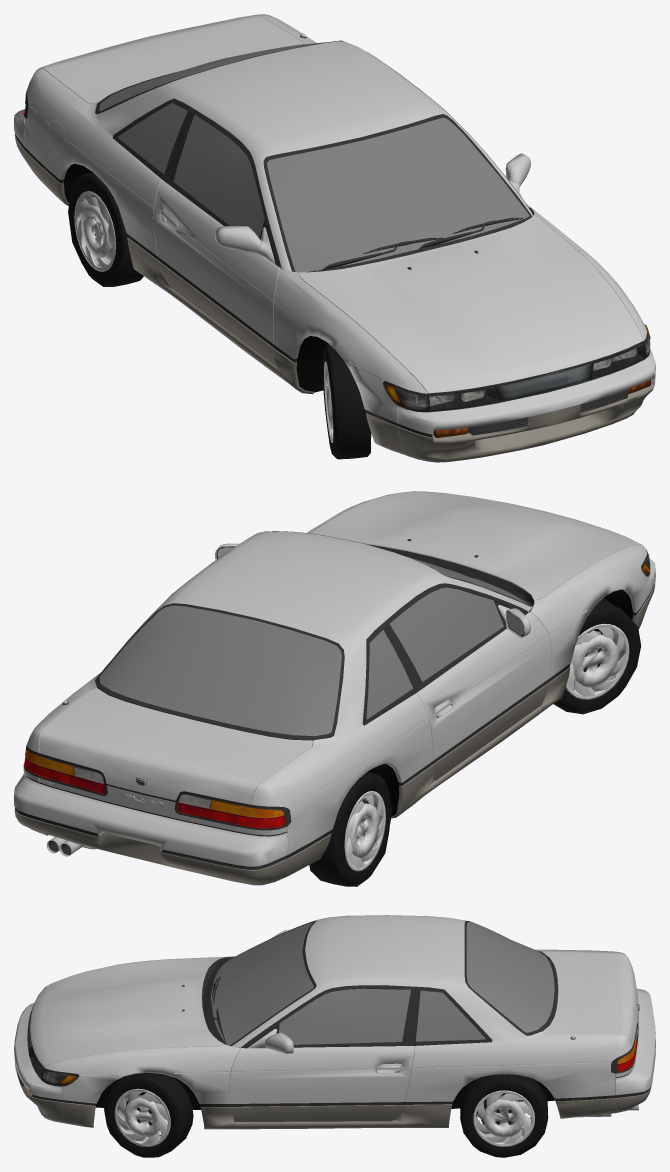
The picture shows the model from 3 angles, top to bottom: view 1: azimuth 30°, elevation 25°; view 2: azimuth 150°, elevation 25°; view 3: azimuth 270°, elevation 25°; orthographic projection. The views are drawn at different scales.
Visible parts, largest first — view 1: body_solid, wheel_RR, wheel_RF, body_Grill, body_HeadAlpha1, body_HeadAlpha3, body_HeadIns2; view 2: body_solid, wheel_RF, wheel_RR, body_TailAlpha; view 3: body_solid, wheel_LR, wheel_LF, body_HeadAlpha3.
Boxes of the visible parts, x1,y1,x2,y2 form: body_solid: (14,14,655,462); wheel_RR: (68,172,143,286); wheel_RF: (322,344,371,459); body_Grill: (494,362,592,401); body_HeadAlpha1: (428,343,644,410); body_HeadAlpha3: (385,324,650,437); body_HeadIns2: (429,348,636,406); body_solid: (14,491,655,885); wheel_RF: (553,598,640,714); wheel_RR: (309,772,392,886); body_TailAlpha: (24,749,284,828); body_solid: (14,915,655,1129); wheel_LR: (460,1074,638,1157); wheel_LF: (104,1072,193,1157); body_HeadAlpha3: (29,1069,77,1093).
Bounding box in the file's own units: 1.89 × 1.27 × 4.47.
Materials: 17 (6 with a texture image).
